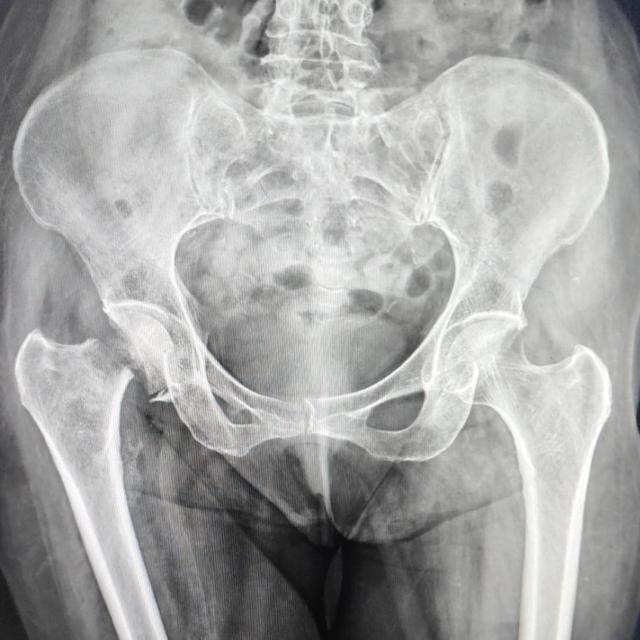normal-left: (446, 322, 613, 562)
right-neck: (14, 327, 142, 571), (109, 312, 178, 392)
